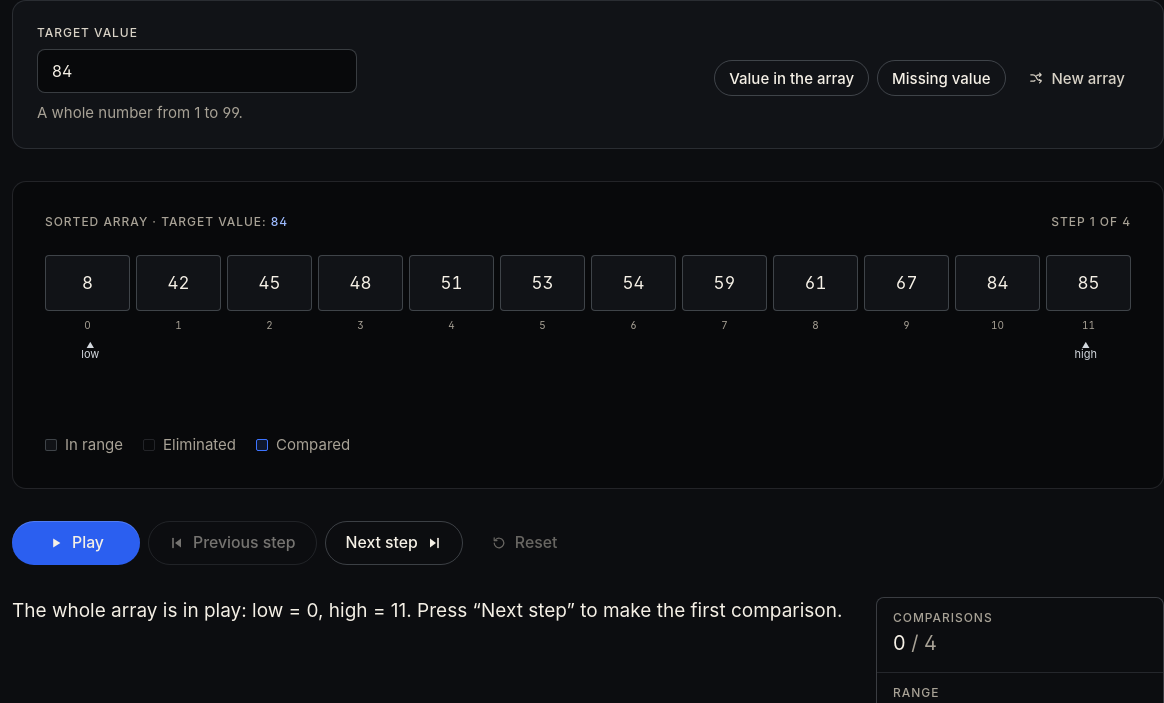
Scenario: BinarySearchVisualizer › reports a missing value as not found
Click the button with test id "pick-missing" at x=941, y=78, box [877,60,1006,96]
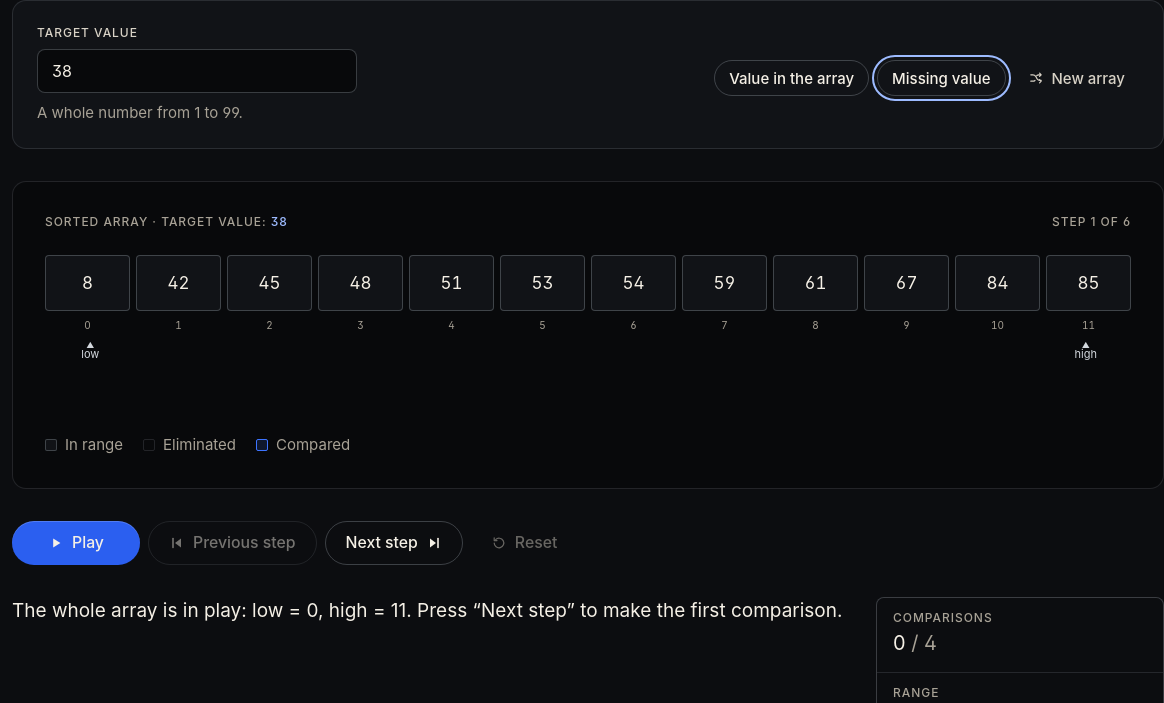
Click the button with test id "next-step" at x=394, y=543, box [324,521,463,565]
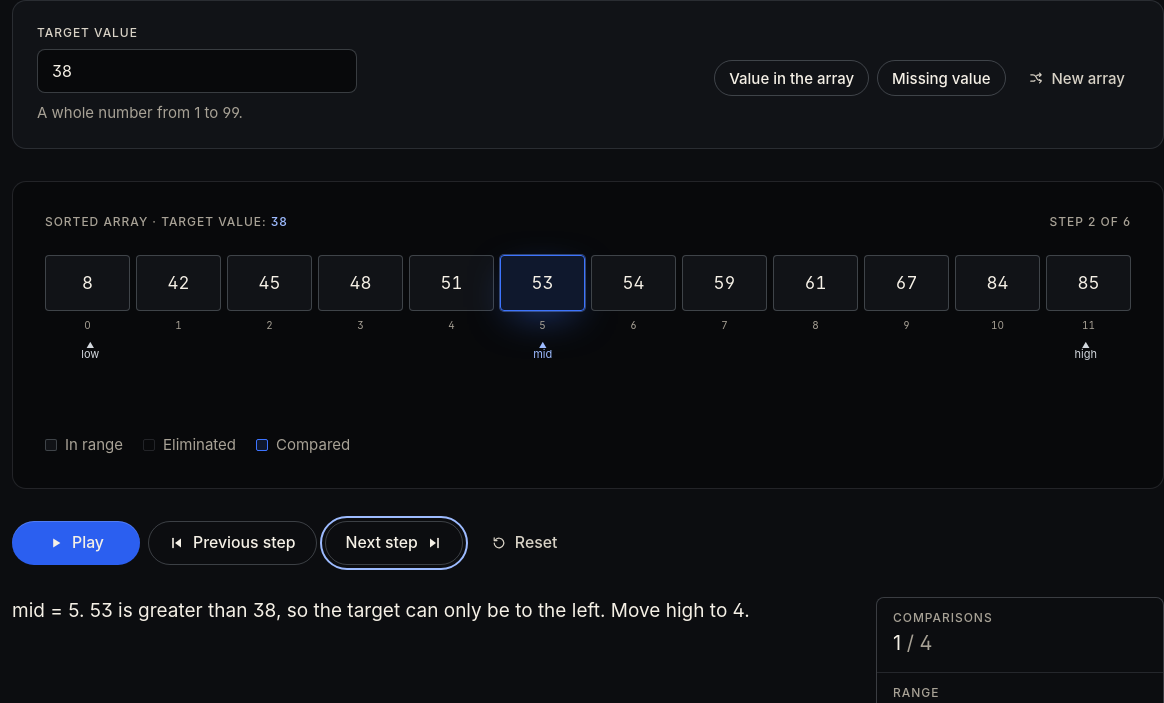
Click the button with test id "next-step" at x=394, y=543, box [324,521,463,565]
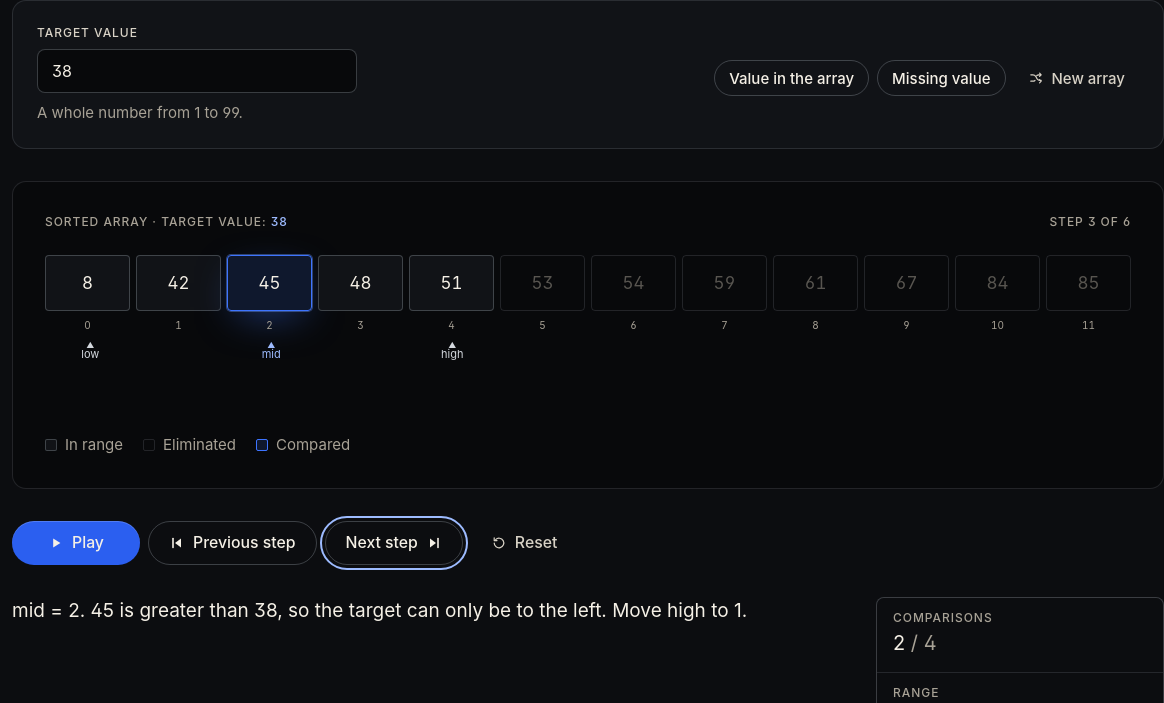
Click the button with test id "next-step" at x=394, y=543, box [324,521,463,565]
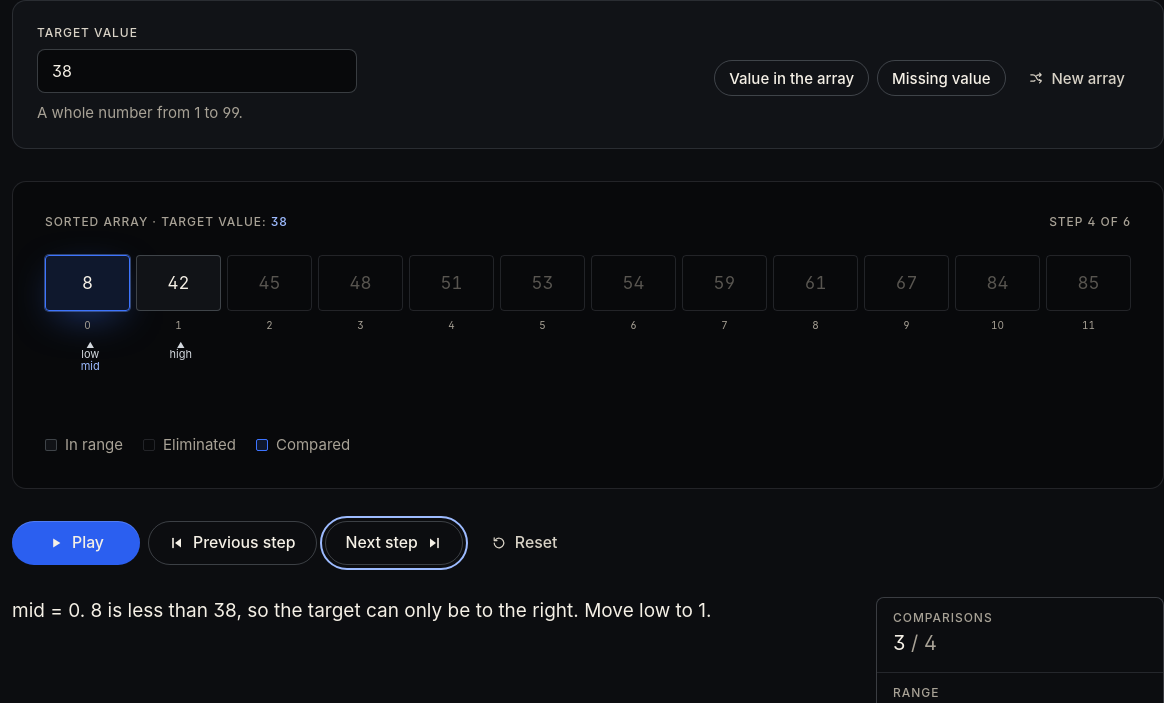
Click the button with test id "next-step" at x=394, y=543, box [324,521,463,565]
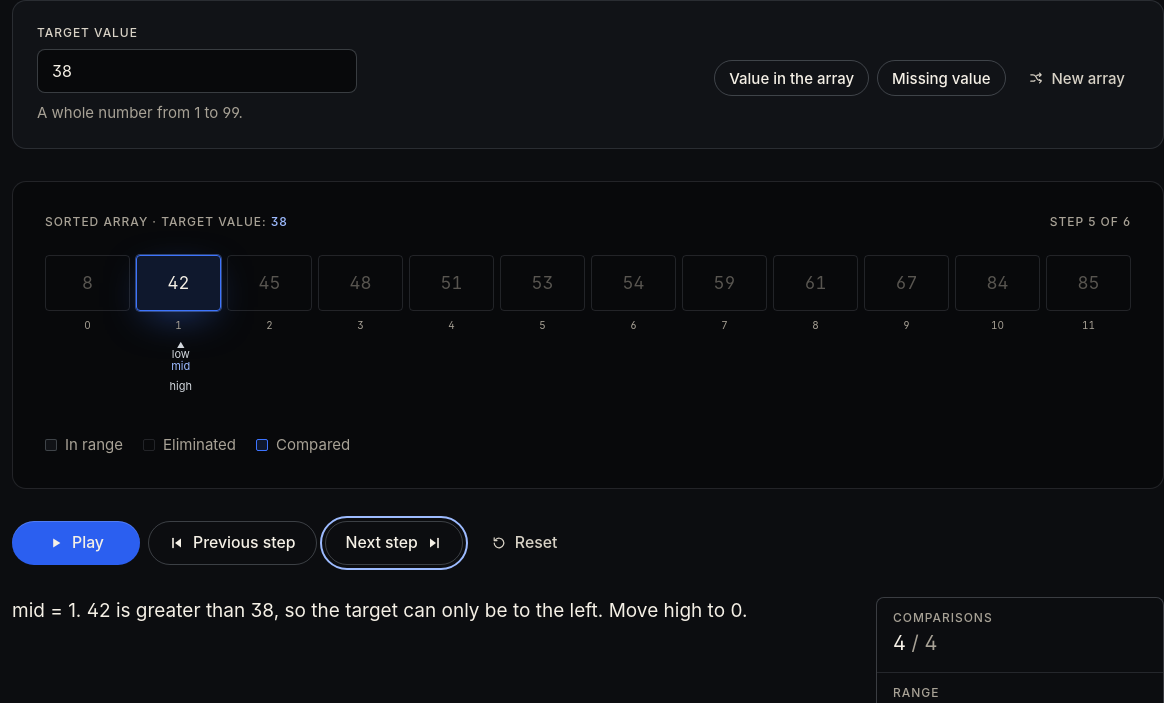
Click the button with test id "next-step" at x=394, y=543, box [324,521,463,565]
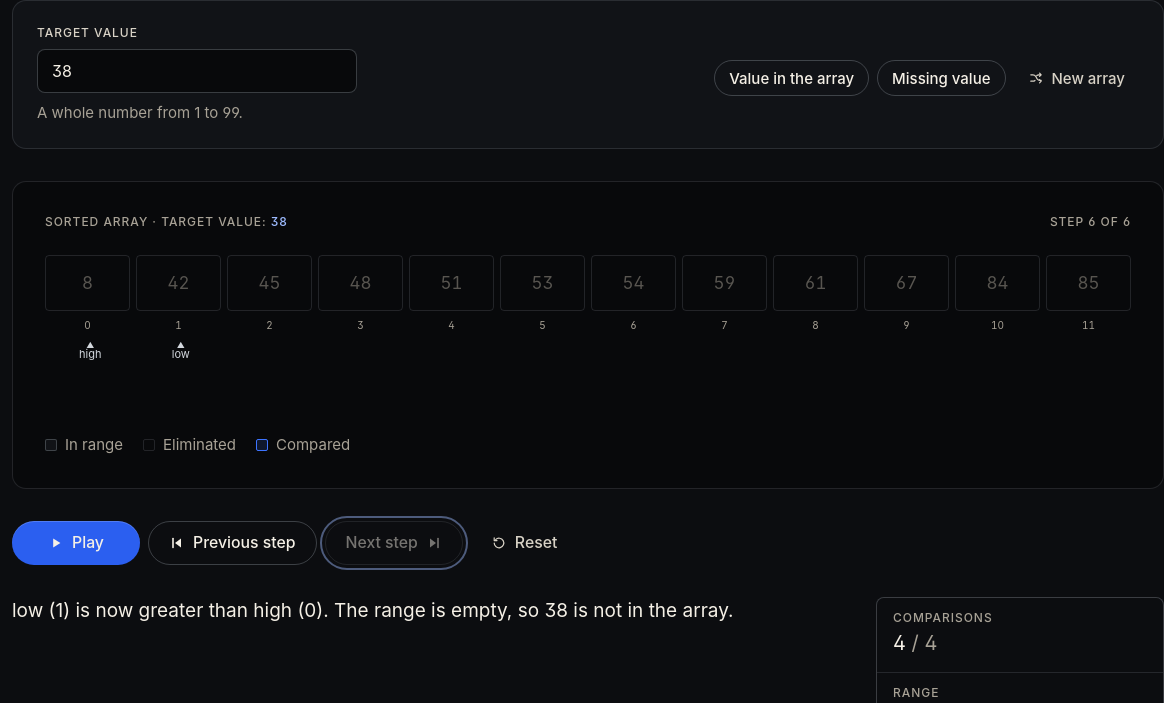
Result: the text with test id "step-explanation" shows "is not in the array" at [12,599,734,622]
